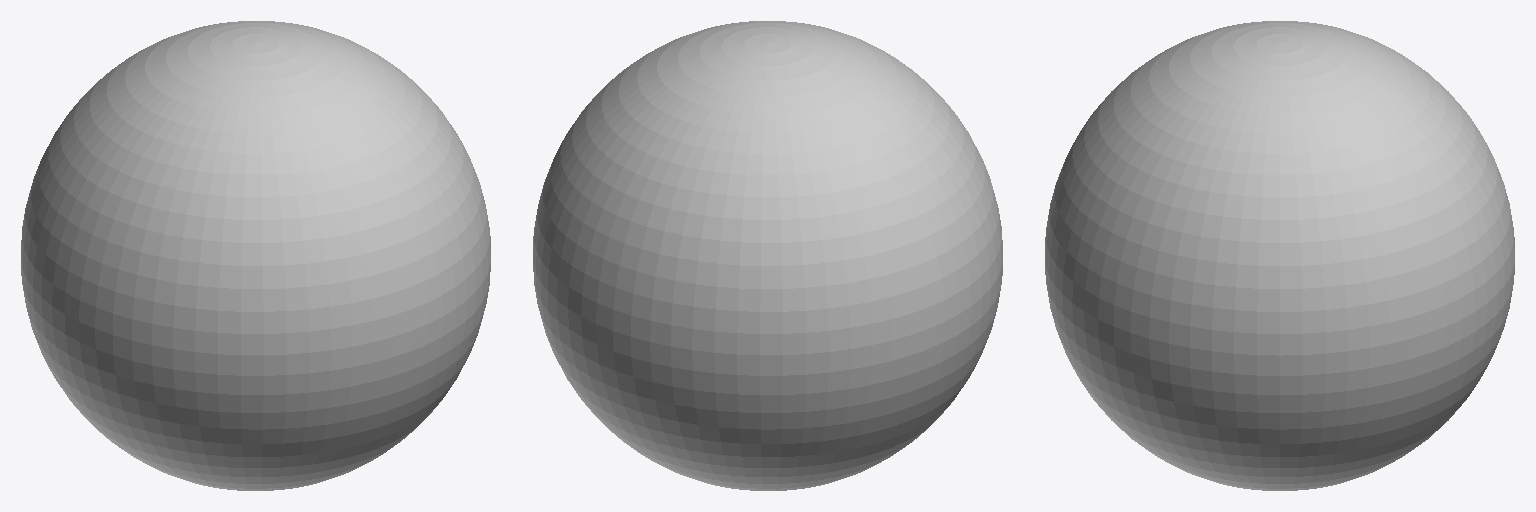
Rendered from moon.obj.
3 views of the same model, side by side, from view 1: azimuth 30°, elevation 25°; view 2: azimuth 150°, elevation 25°; view 3: azimuth 270°, elevation 25° (orthographic).
Parts seen in each view (by area): view 1: Moon; view 2: Moon; view 3: Moon.
Boxes of the visible parts, x1,y1,x2,y2 form: Moon: [21, 21, 490, 490]; Moon: [533, 21, 1002, 490]; Moon: [1045, 21, 1514, 490].
Size of the model in its own units: 2 by 2 by 2.